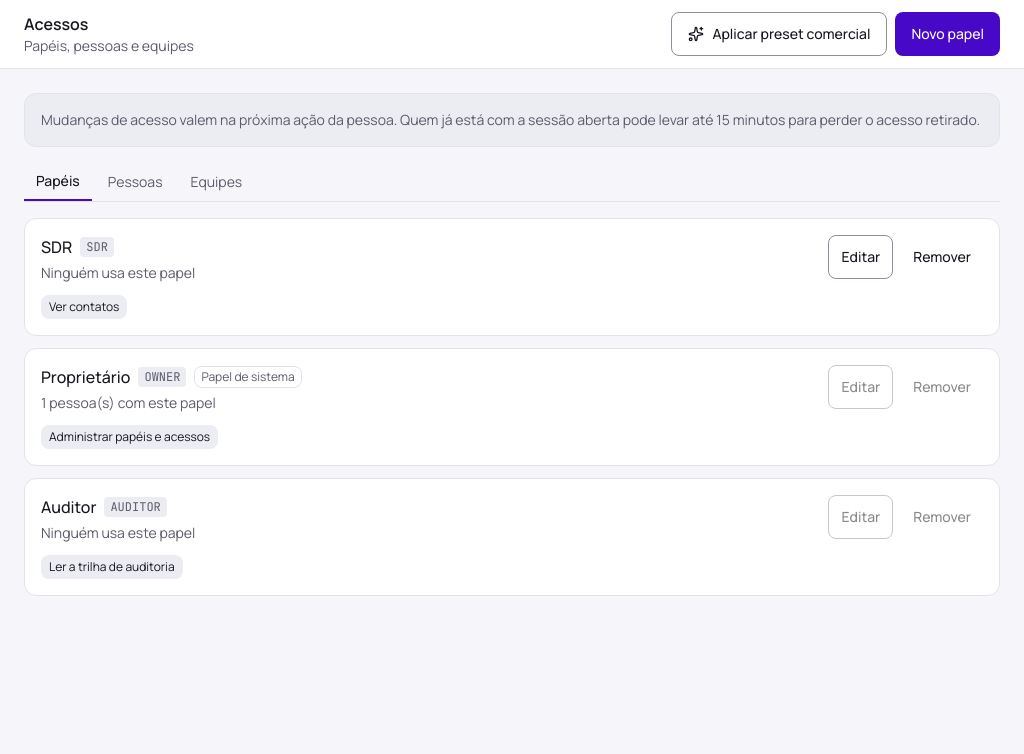
Test: TeamsPage › o código do papel não muda depois de criado
Expected: the heading "SDR" is shown, x1=41 y1=235 x2=72 y2=259
Click the 1st button "Editar": [861, 257] box x1=828 y1=235 x2=893 y2=279
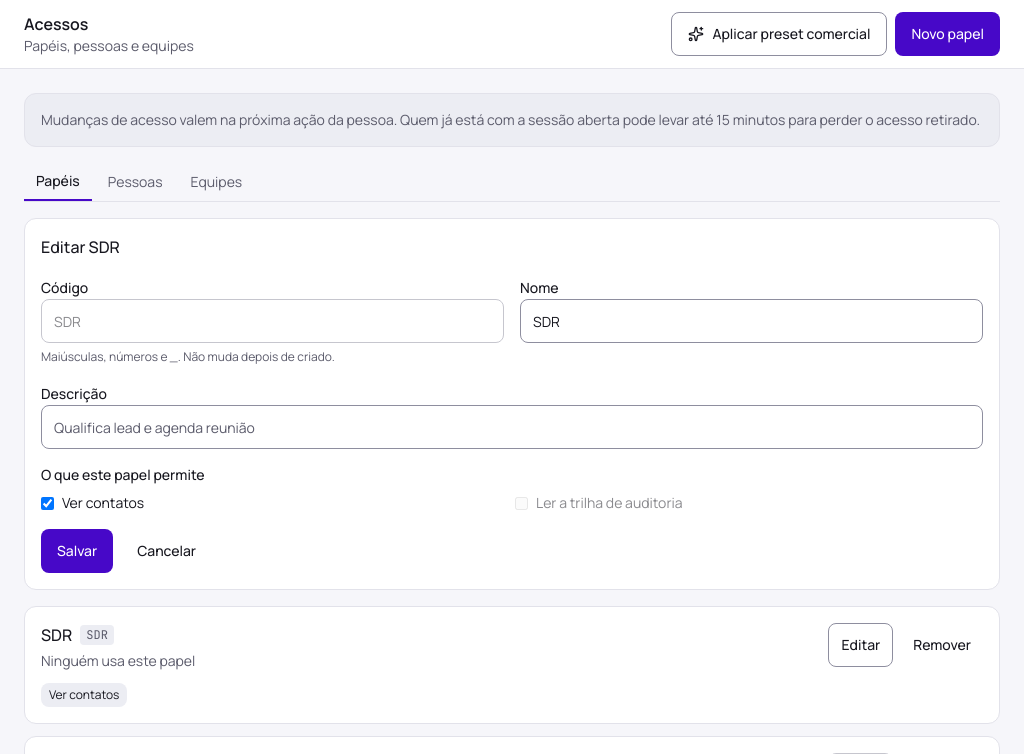
Result: the field labelled "Código" is disabled at x1=41 y1=299 x2=504 y2=343
Result: the field labelled "Código" holds "SDR" at x1=41 y1=299 x2=504 y2=343
